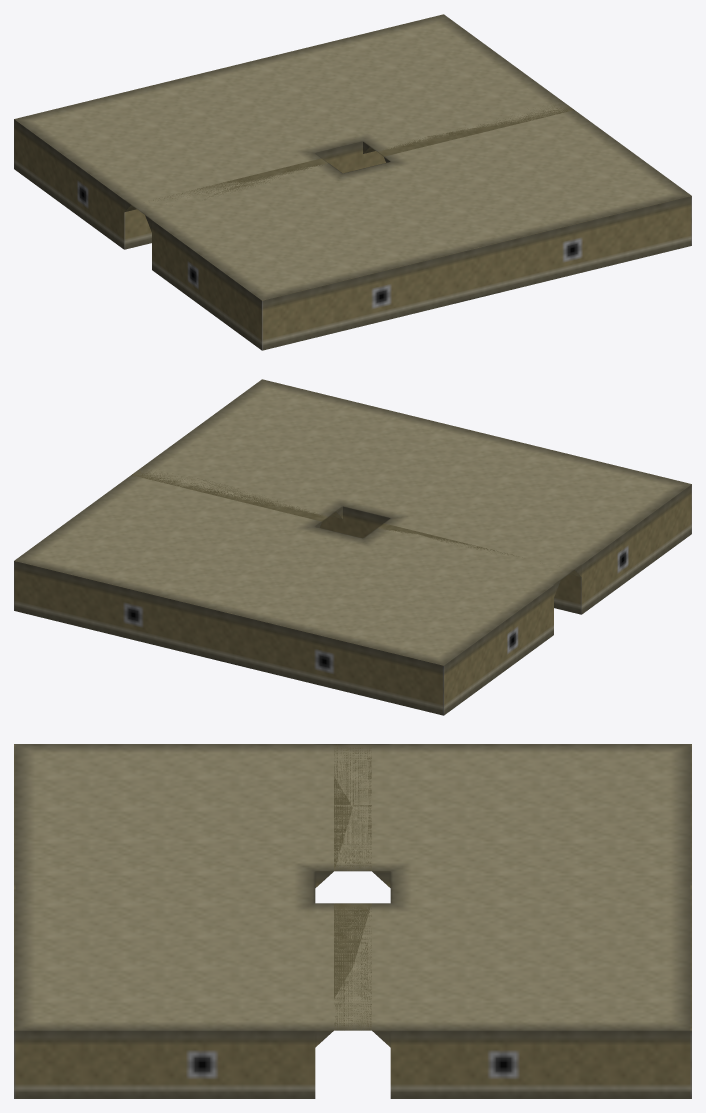
The model's file is pad_base.obj.
3 renders of one model, top to bottom at view 1: azimuth 30°, elevation 25°; view 2: azimuth 150°, elevation 25°; view 3: azimuth 270°, elevation 25°, orthographic. The views are drawn at different scales.
Visible parts, largest first — view 1: pad_base; view 2: pad_base; view 3: pad_base.
Boxes of the visible parts, x1=… form: pad_base: x1=14, y1=14, x2=691, y2=350; pad_base: x1=14, y1=379, x2=691, y2=715; pad_base: x1=14, y1=744, x2=691, y2=1098.
Size of the model in its own units: 9 by 1 by 9.
